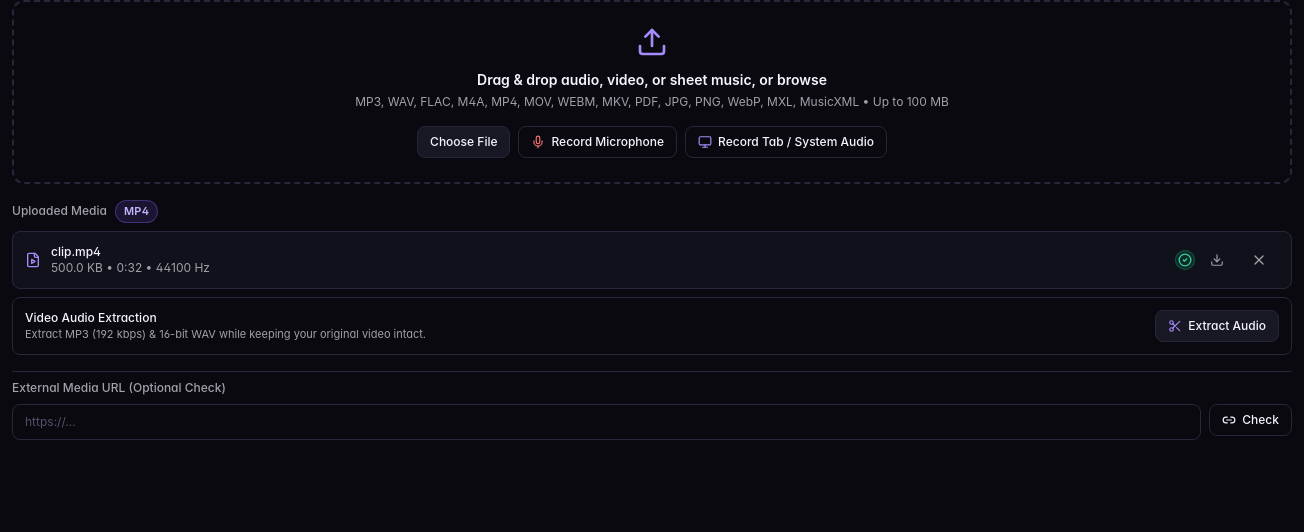
Test case: Video Audio Extraction UI & ExportCenter › prevents duplicate extraction requests, shows MP3/WAV downloads, and selects extracted audio for transcription
This screenshot has width=1304, height=532.
Later steps or results of the test are not shown.
Step 1. Click the button "Extract Audio" → coordinates (1217, 326), box [1155,310,1279,342]
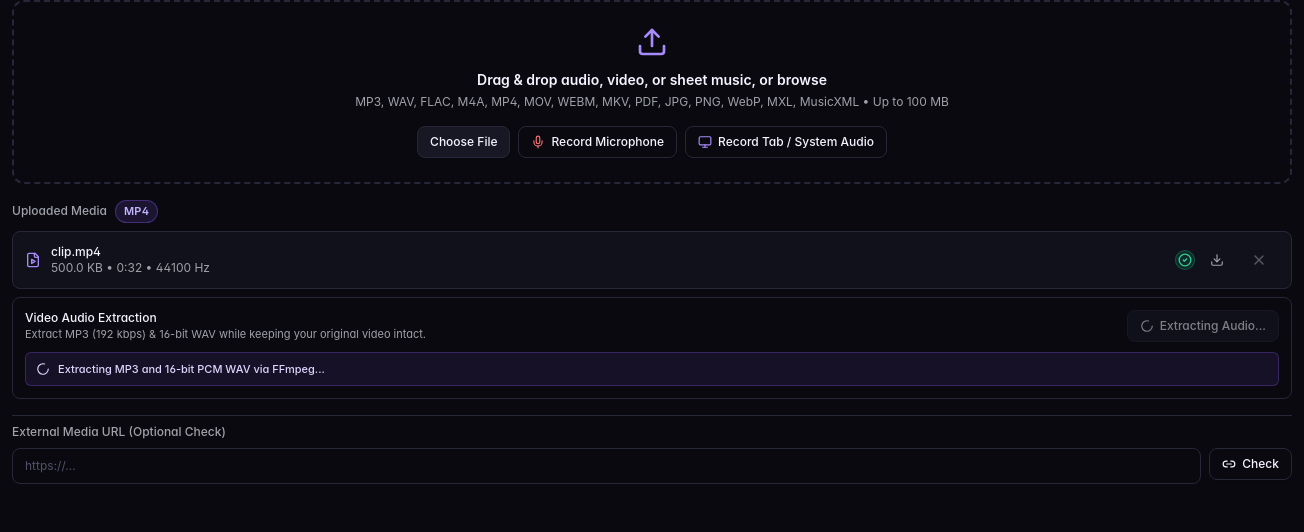
Step 2. Click the button named "Extract Audio" → coordinates (1203, 326), box [1127,310,1279,342]
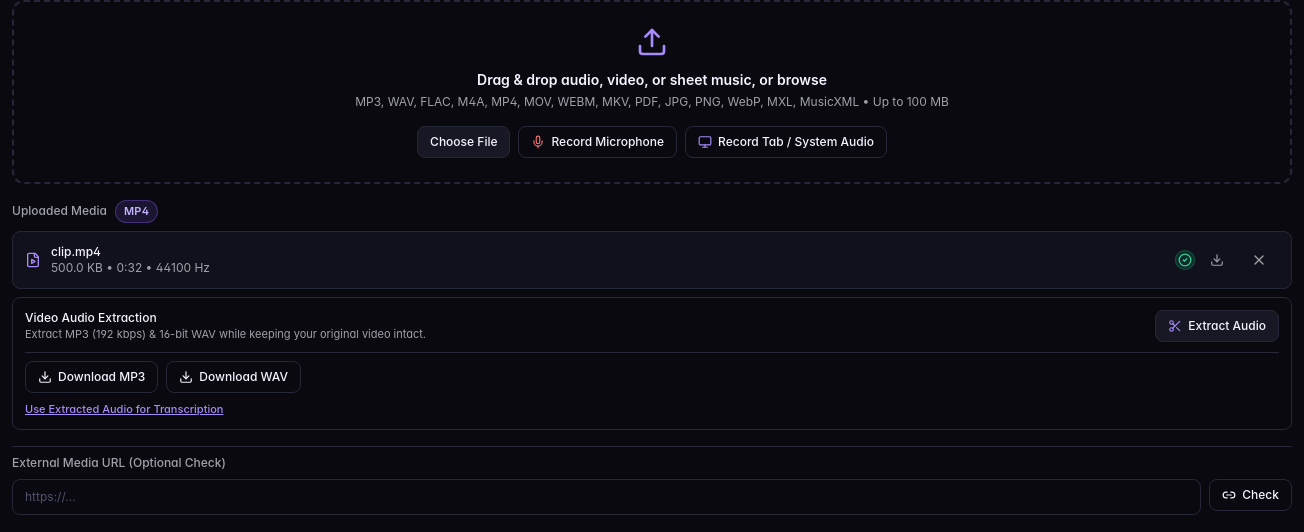
Check: the button "Download MP3" is shown, box [25,360,158,392]
Check: the button "Download WAV" is shown, box [166,360,301,392]
